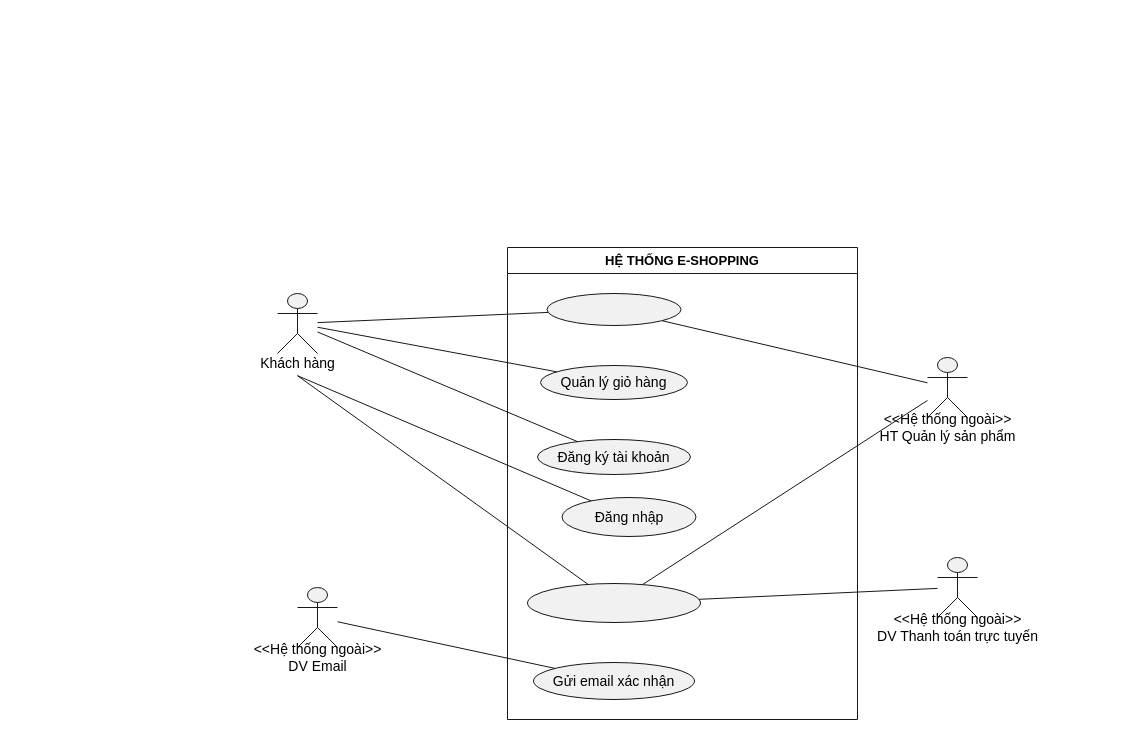
Some shapes in this 1133 by 737 pixel diagram are drawn without their labels. The shapes that lost their labels are listed below. From the top down, each one's centre as x and y in pixels, then its label:
[613,309]: Xem sản phẩm
[613,602]: Đặt hàng và tính tiền
